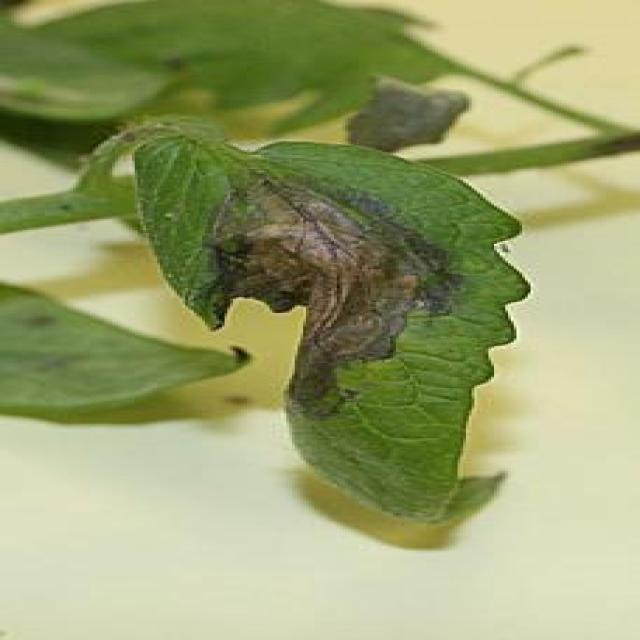unhealthy: (135, 120, 525, 523)
